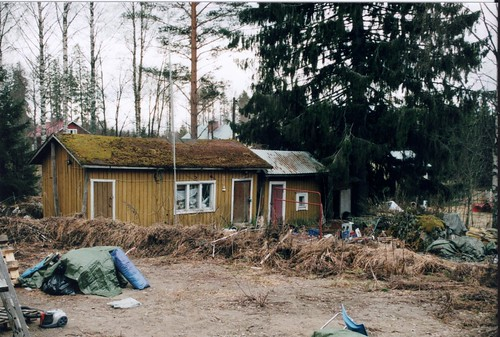building: (65, 150, 304, 234)
trash: (1, 219, 500, 337)
tree: (281, 7, 455, 215), (148, 1, 244, 133), (49, 8, 106, 138), (120, 5, 175, 131), (7, 10, 58, 124)
